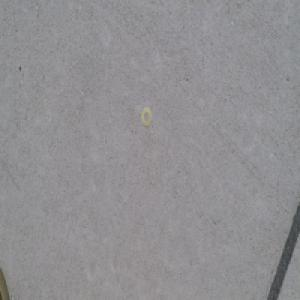Washer: (140, 107, 152, 128)
